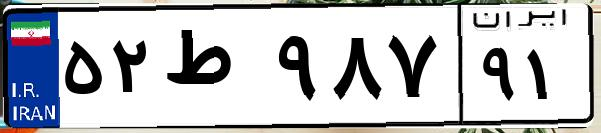1: (525, 38, 570, 115)
2: (110, 28, 158, 98)
5: (57, 26, 110, 100)
7: (385, 28, 445, 110)
8: (330, 28, 385, 110)
9: (270, 28, 330, 110), (475, 38, 525, 113)
ط: (158, 20, 270, 120)
